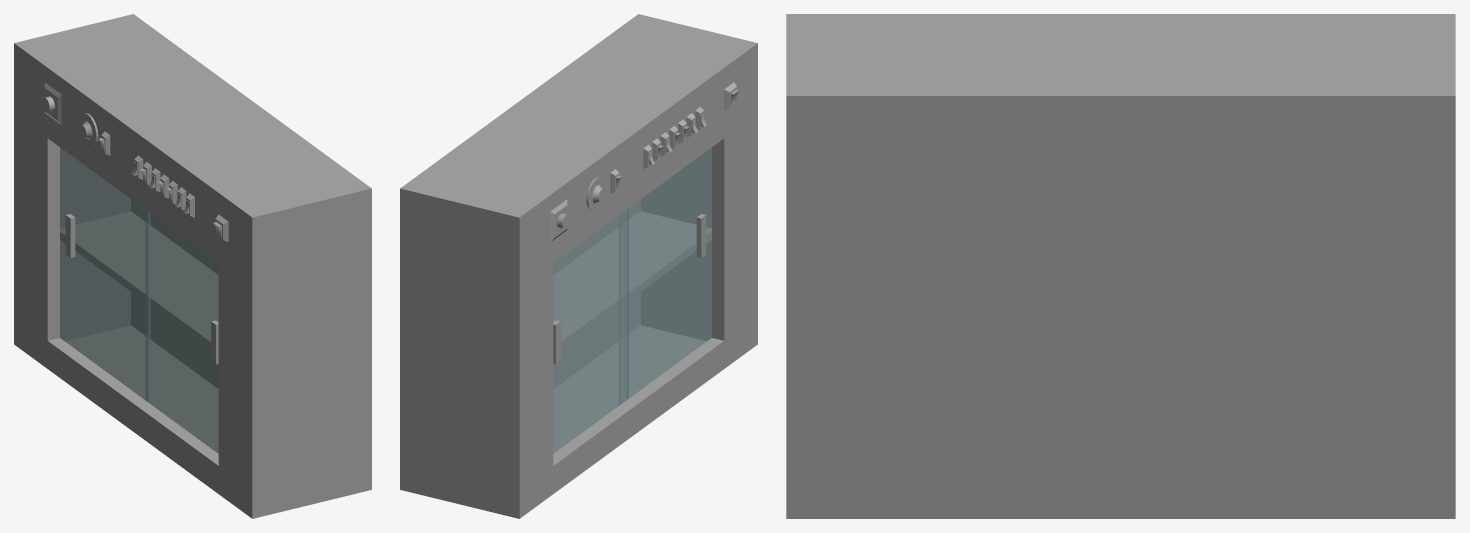
The model's file is EarthLab_PlantTank1_UNWRAPPED_Week12.fbx.
3 views of the same model, side by side, from view 1: azimuth 30°, elevation 25°; view 2: azimuth 150°, elevation 25°; view 3: azimuth 270°, elevation 25° (orthographic). The views are drawn at different scales.
Visible parts, largest first — view 1: pCube28; view 2: pCube28; view 3: pCube28.
Boxes of the visible parts, x1,y1,x2,y2 form: pCube28: (14,14,371,518); pCube28: (400,14,757,518); pCube28: (786,14,1455,518).
Bounding box in the file's own units: 1.72 × 3.89 × 5.58.
